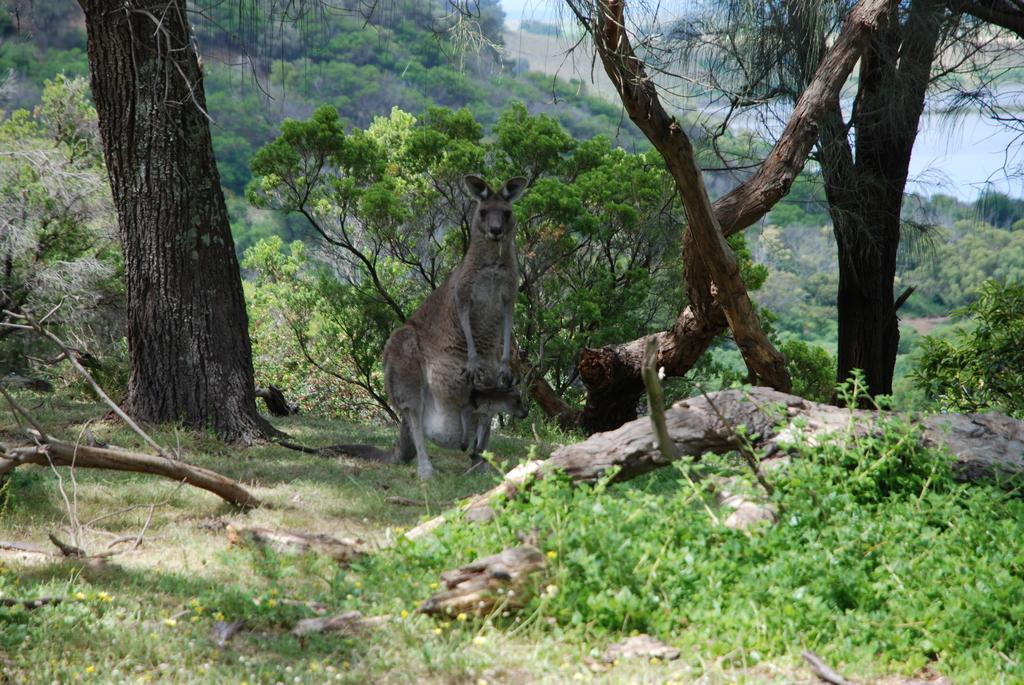kangaroo: (278, 178, 526, 490), (464, 342, 530, 421)
